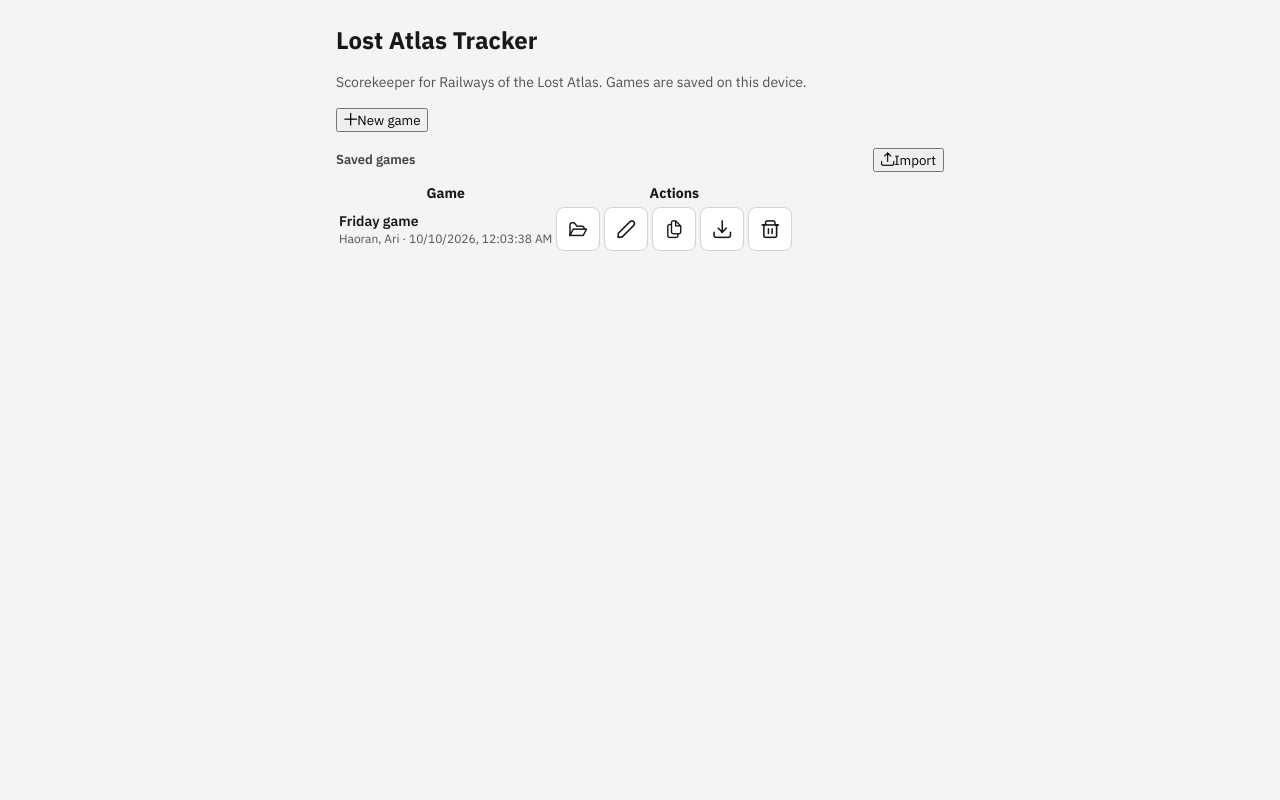
Test: App without a game › lists a saved game on the home screen and opens it
This screenshot has width=1280, height=800.
What coordinates should you click on to do the following:
click the button named "Open g1"
I would click on:
 (578, 229)
Its box is [556,207,600,251].
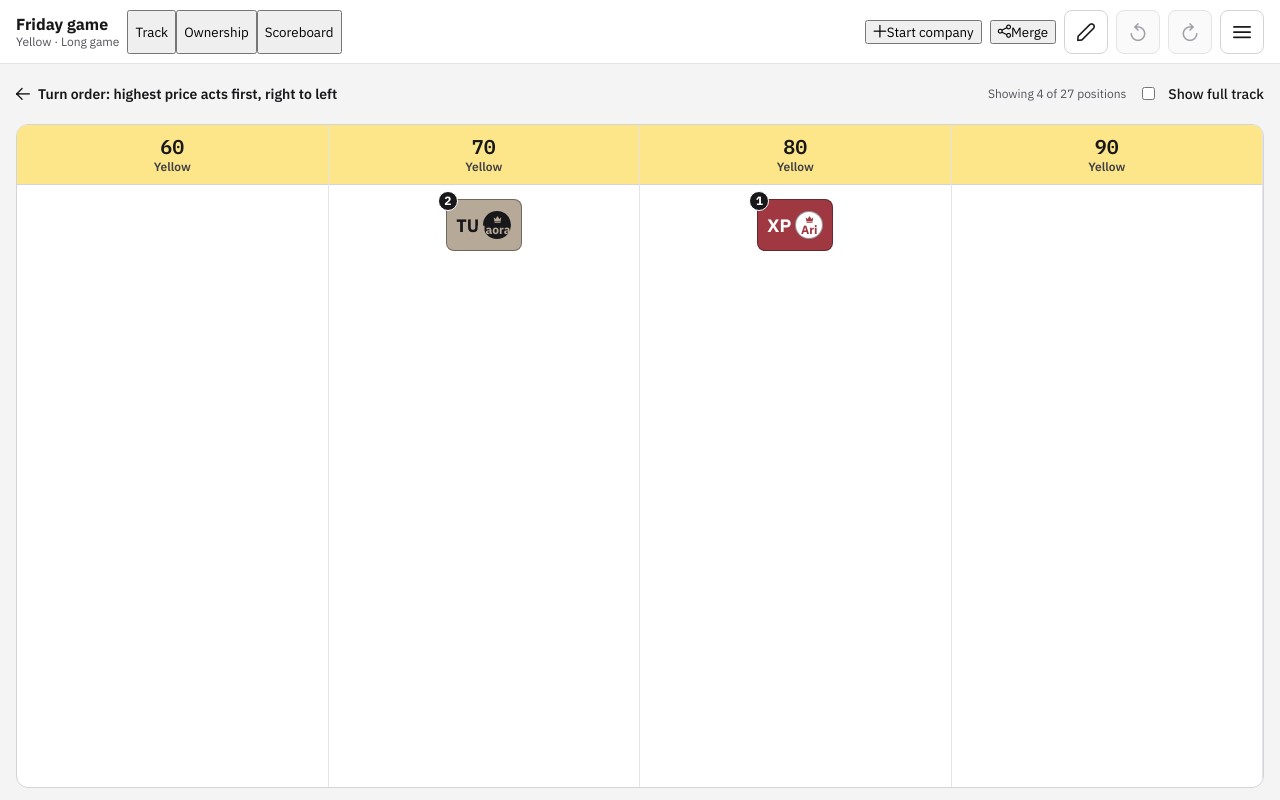
Expected: the header shows "Friday game", [16,14,108,34]
